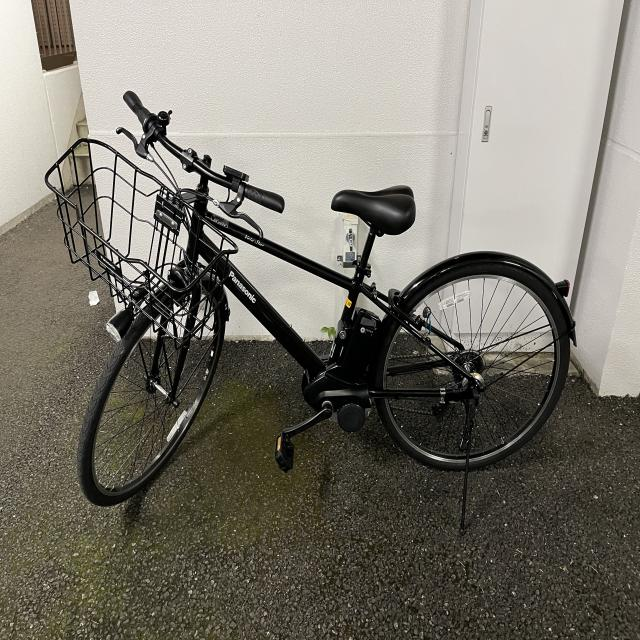basket: (404, 300, 598, 505)
battery: (258, 252, 303, 330)
